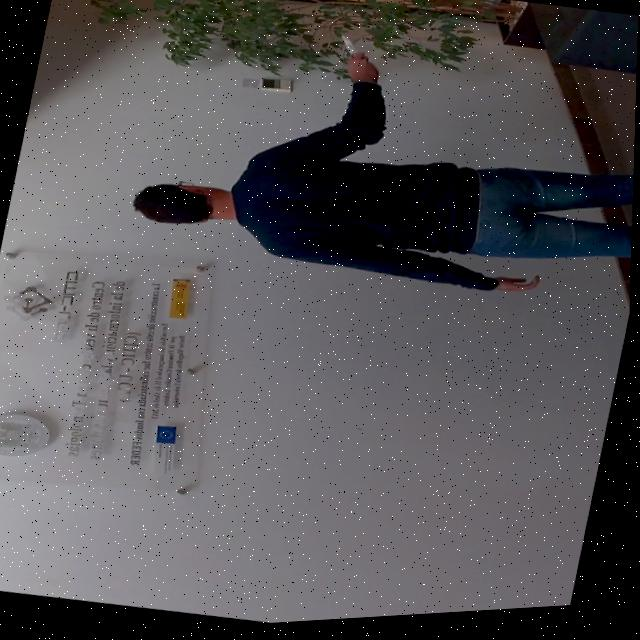knife: (336, 37, 361, 63)
